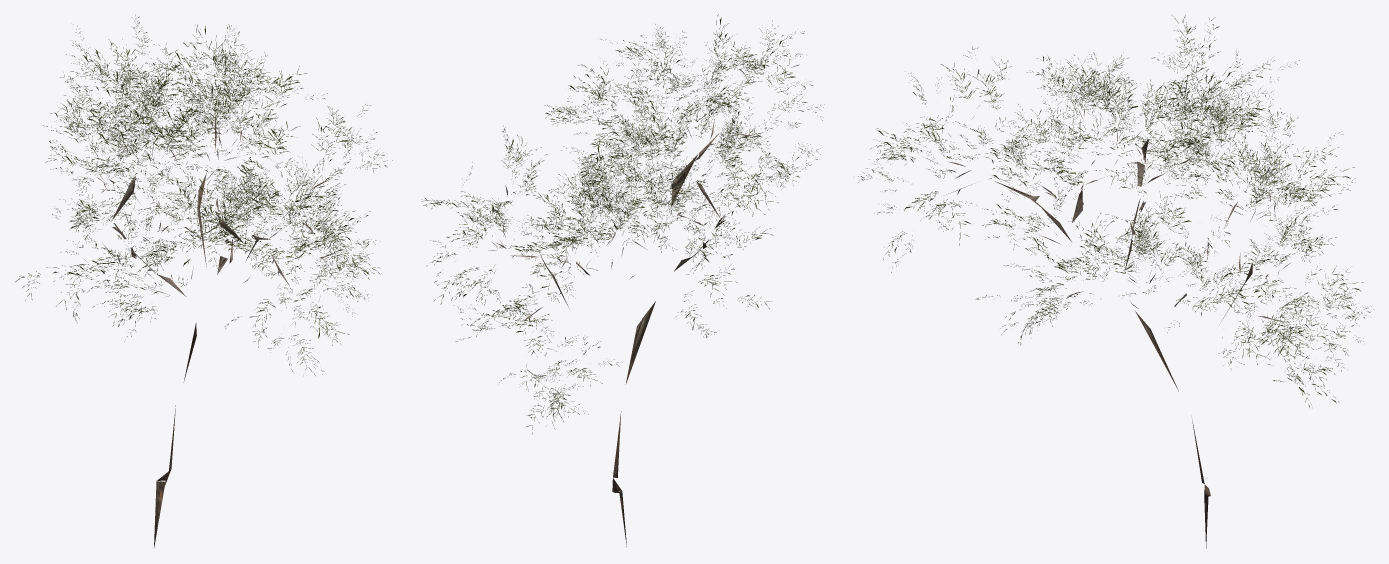
Rendered from tree.glb.
3 renders of one model, left to right at view 1: azimuth 30°, elevation 25°; view 2: azimuth 150°, elevation 25°; view 3: azimuth 270°, elevation 25°, orthographic. The views are drawn at different scales.
Visible parts, largest first — view 1: CC0_TreeSmall02_Near; view 2: CC0_TreeSmall02_Near; view 3: CC0_TreeSmall02_Near.
Part boxes in pixels (bbox=[...]): CC0_TreeSmall02_Near: bbox=[15, 14, 392, 547]; CC0_TreeSmall02_Near: bbox=[422, 14, 824, 546]; CC0_TreeSmall02_Near: bbox=[858, 15, 1371, 548].
Bounding box in the file's own units: 4.42 × 6.91 × 6.56.
Materials: 3 (3 with a texture image).
